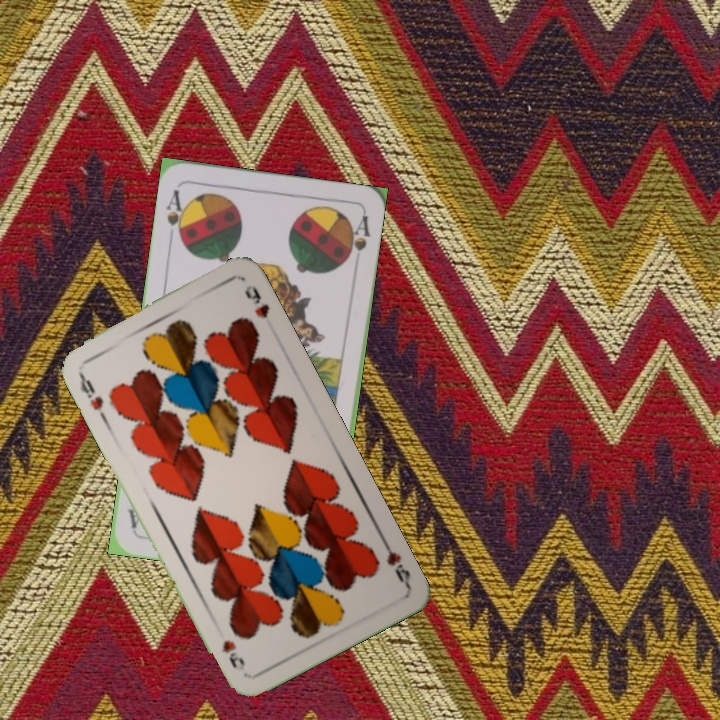H9: (377, 533, 413, 588), (74, 367, 108, 421)
SA: (162, 186, 190, 244)
